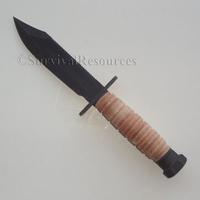knife: (8, 11, 186, 173)
